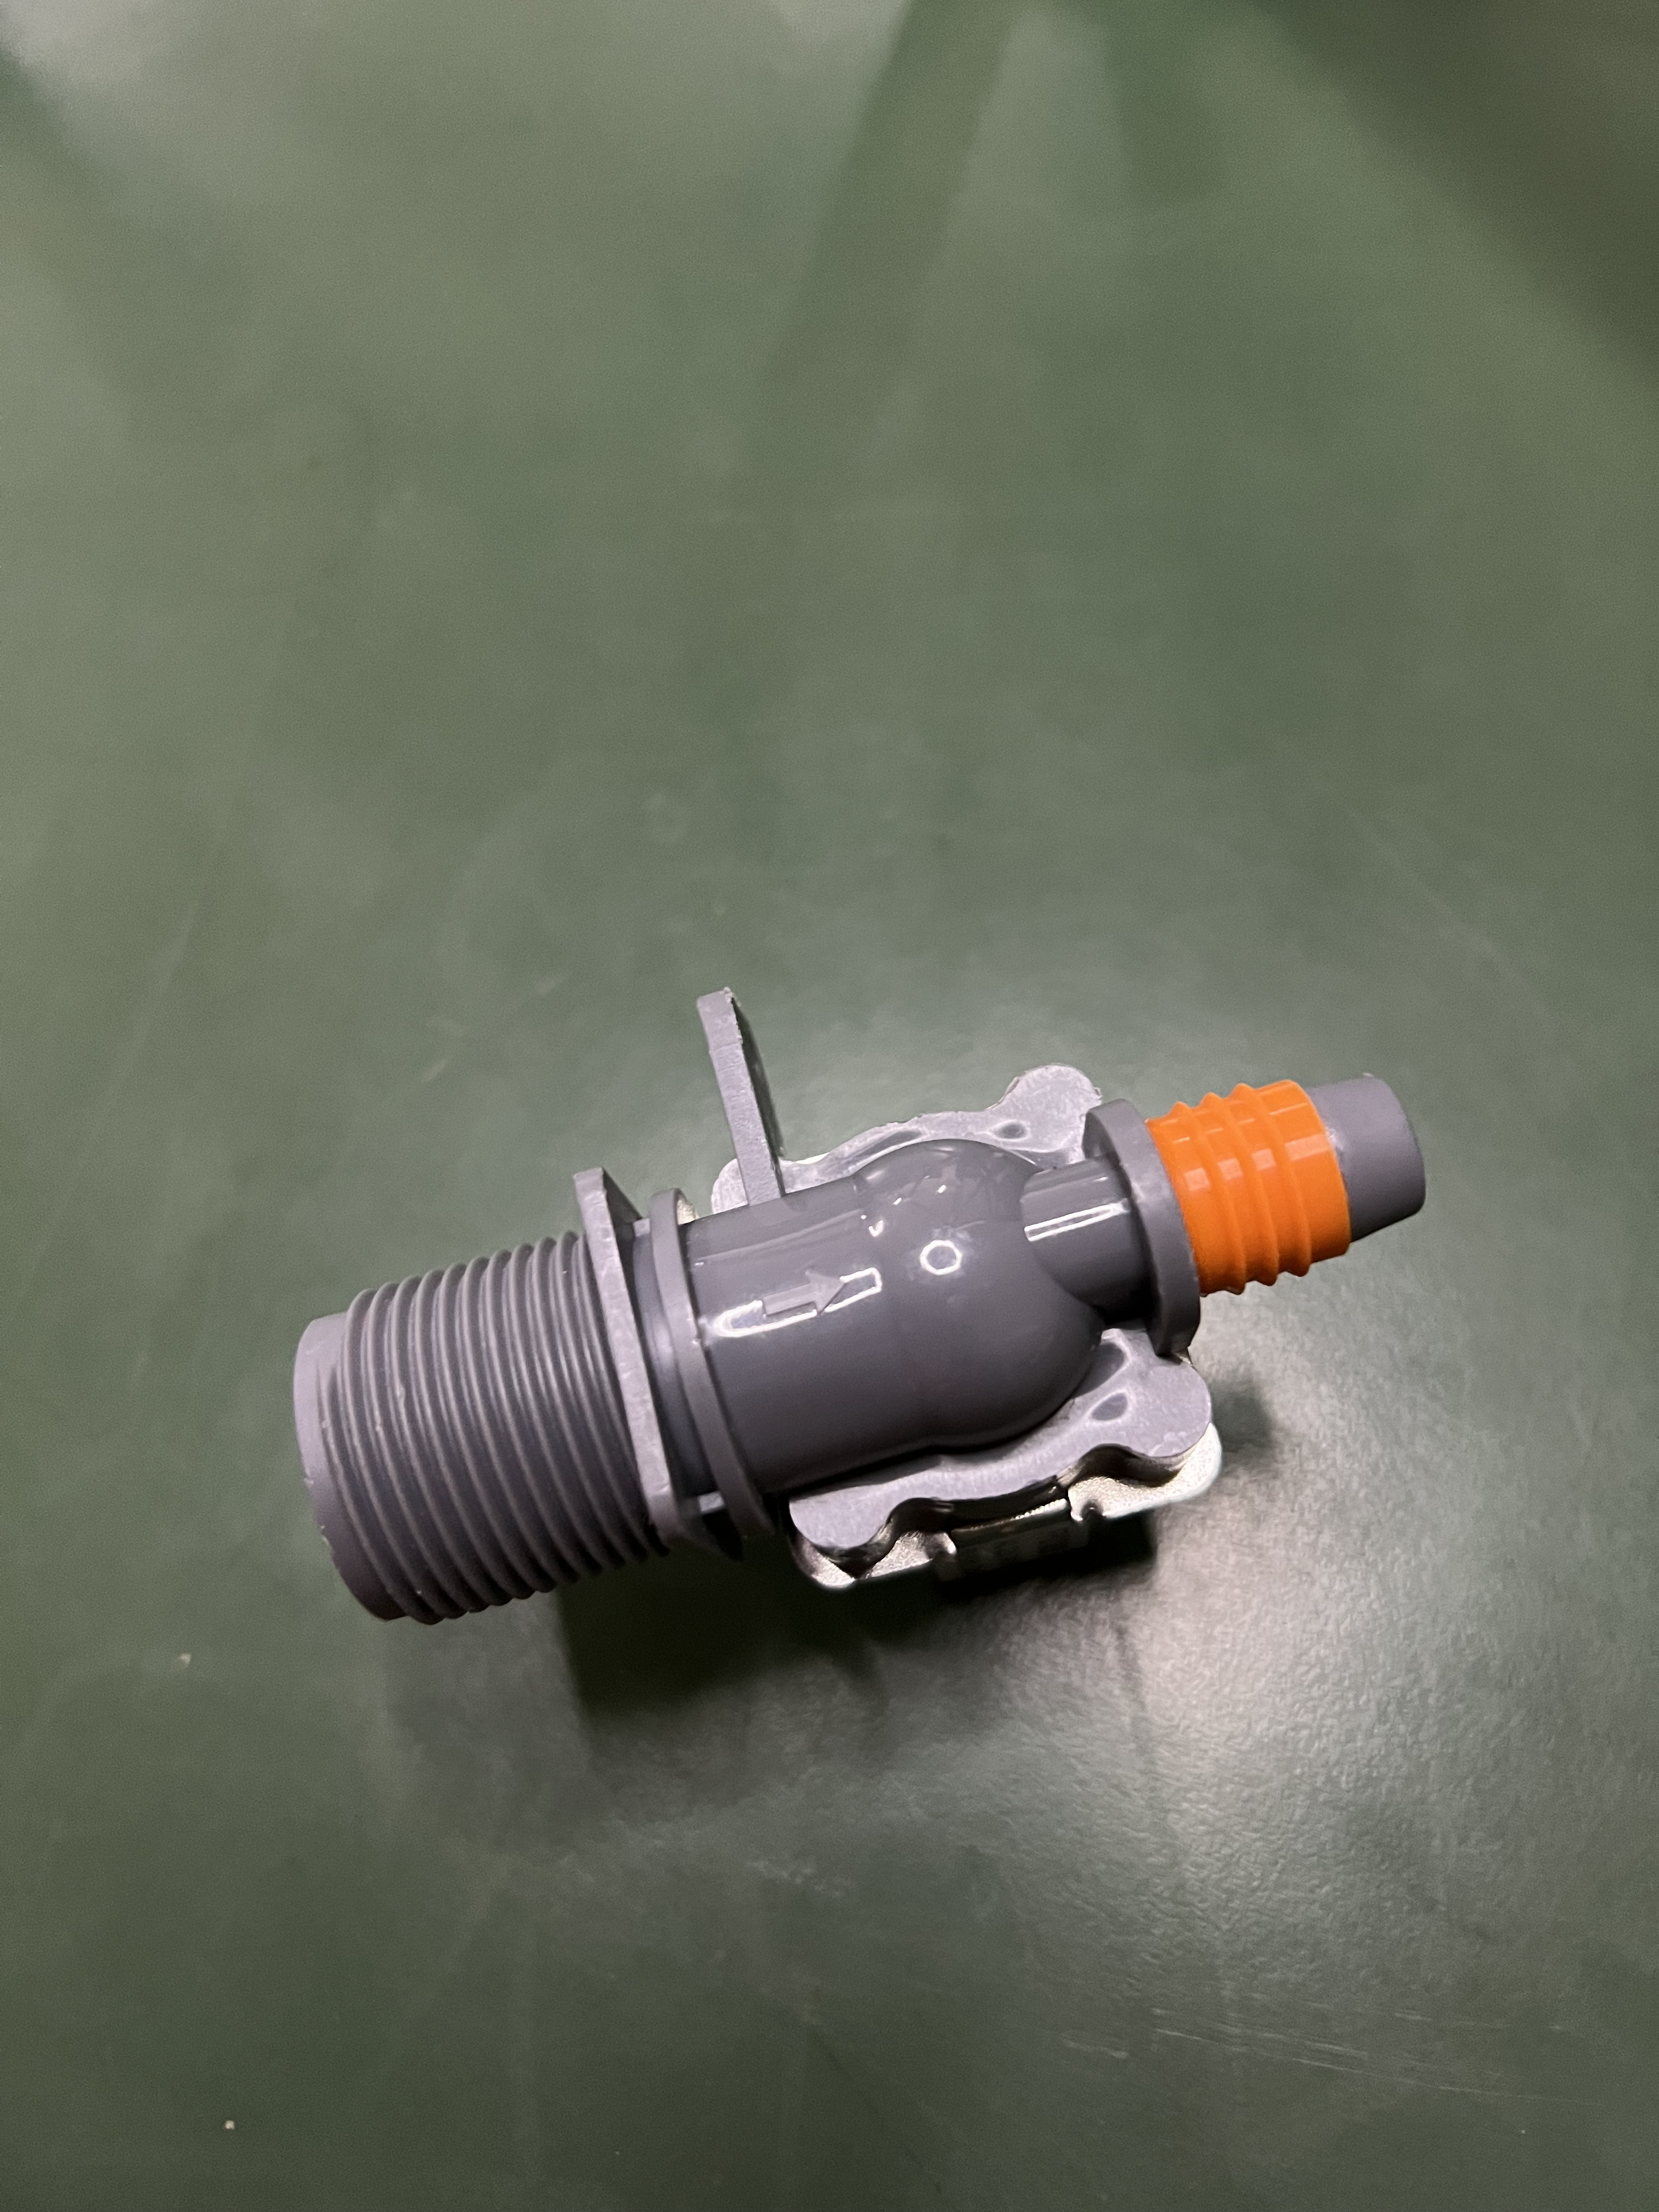inlet_valves: (263, 978, 1420, 1643)
